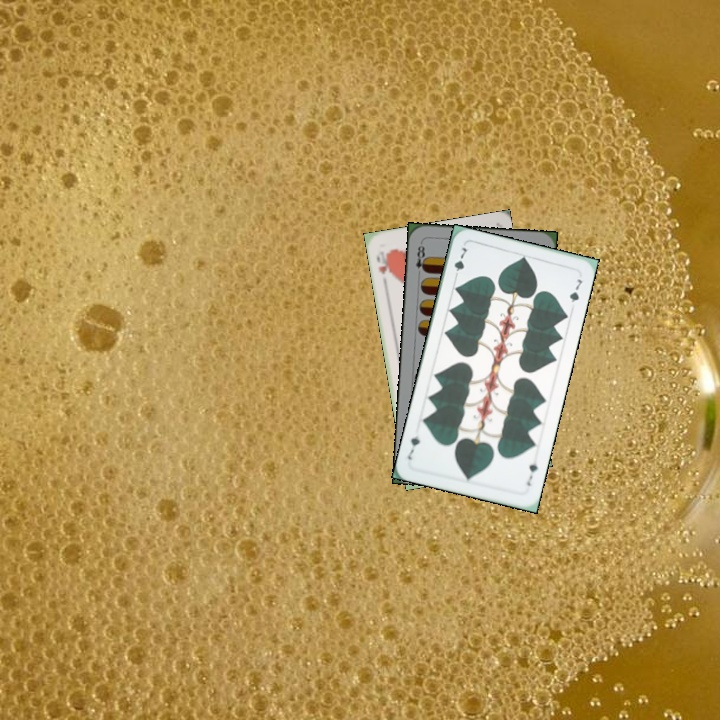E8: (412, 239, 429, 279)
G7: (450, 243, 470, 282), (523, 459, 541, 489)
HO: (372, 247, 393, 277)
